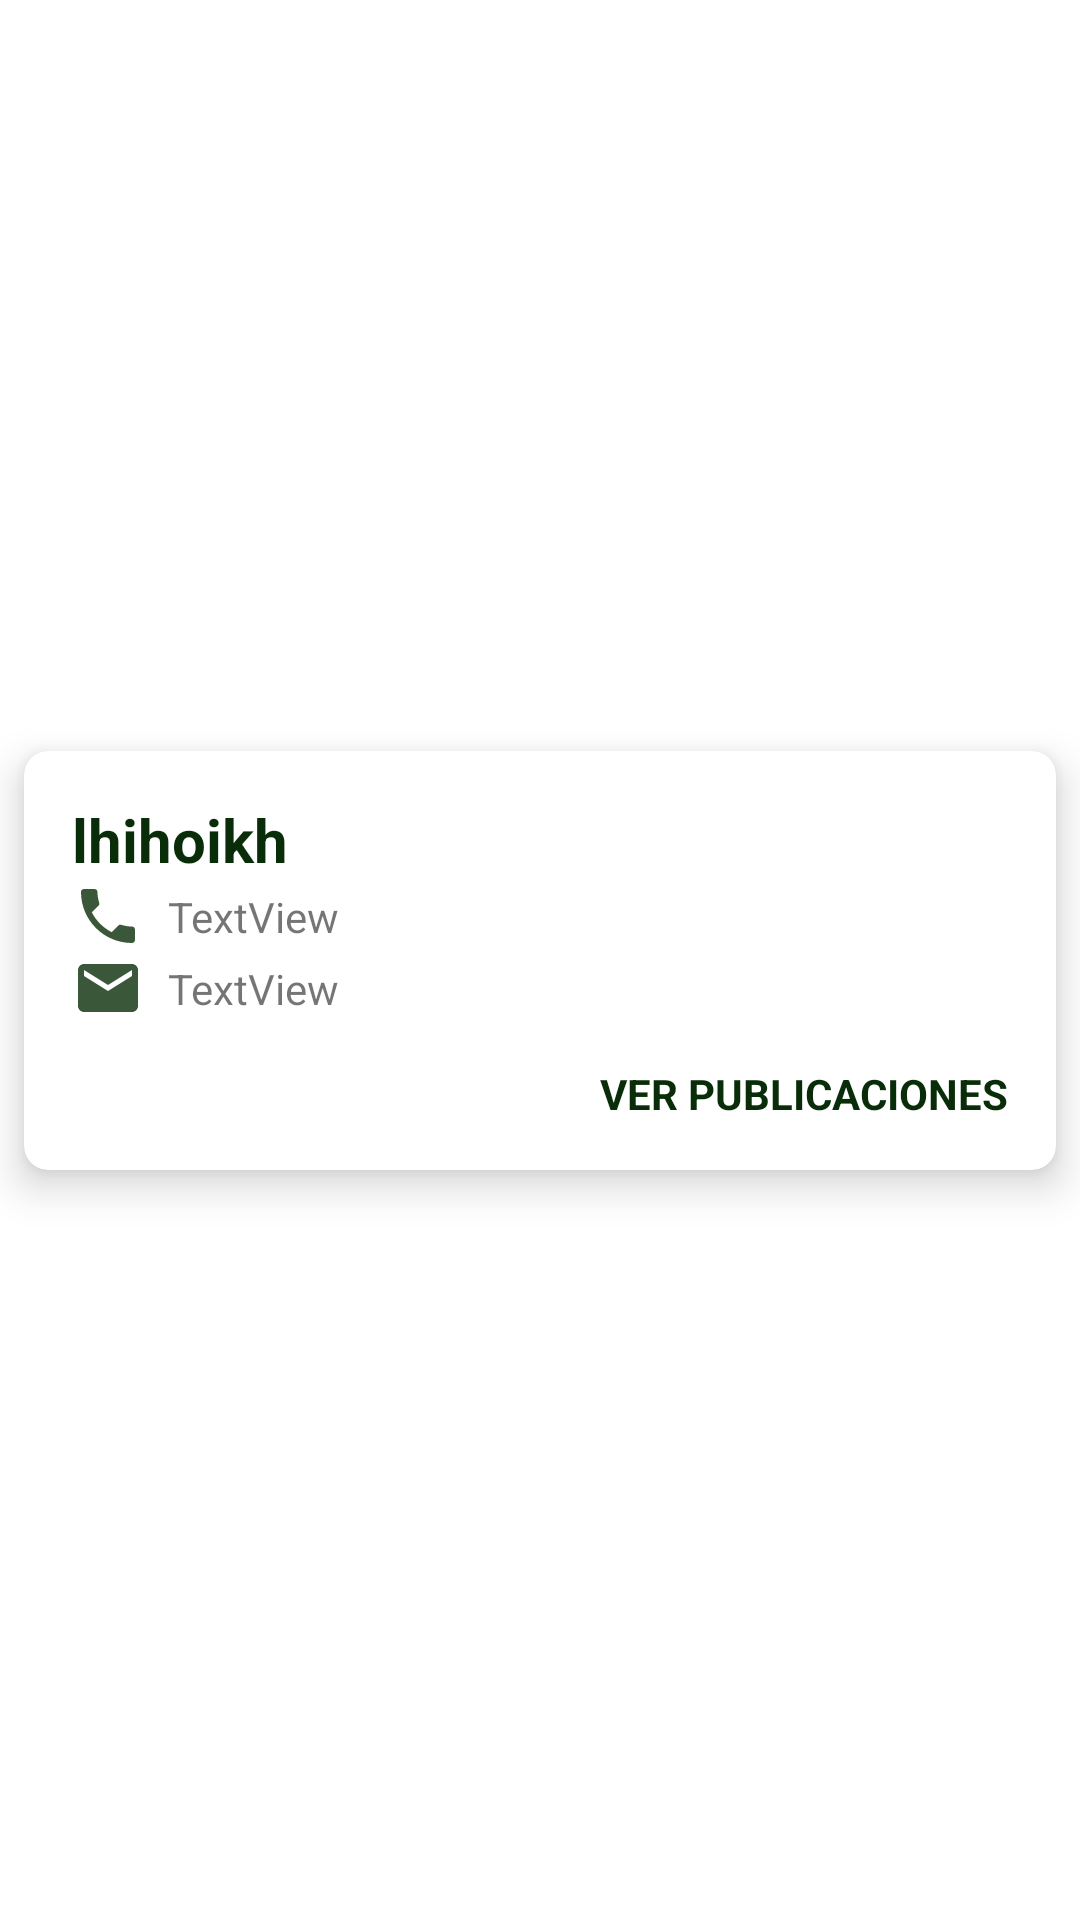

Named icons in this screenshot (1080px×1920px) and their centers, (x,y):
email: (108,988)
phone: (108,916)
